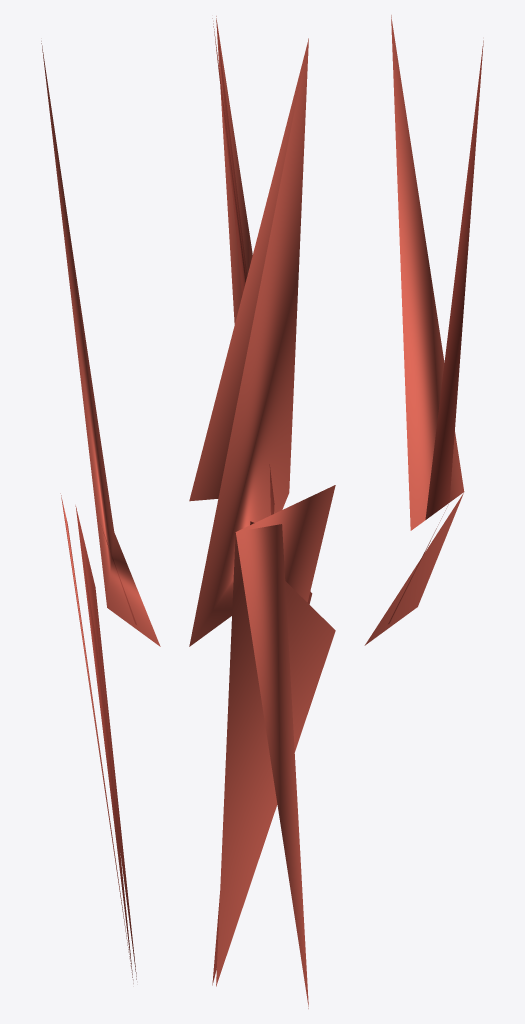
File: equip_head_dragon_full_helm.glb
3 views of the same model, side by side, from view 1: azimuth 30°, elevation 25°; view 2: azimuth 150°, elevation 25°; view 3: azimuth 330°, elevation 25° (orthographic).
Visible parts, largest first — view 1: equip_head_dragon_full_helm; view 2: equip_head_dragon_full_helm; view 3: equip_head_dragon_full_helm.
Part boxes in pixels (box(x1,y1,x2,y2)): equip_head_dragon_full_helm: box(41, 41, 160, 983); equip_head_dragon_full_helm: box(189, 16, 335, 1008); equip_head_dragon_full_helm: box(364, 15, 483, 645).
Size of the model in its own units: 0.208 by 2 by 0.208.
